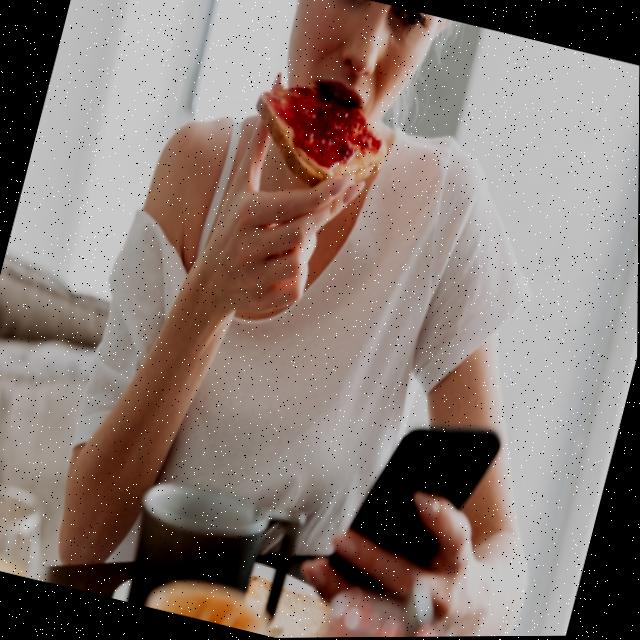eating-person: (10, 0, 640, 640)
